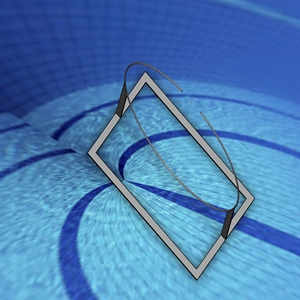circle: (88, 59, 256, 280)
